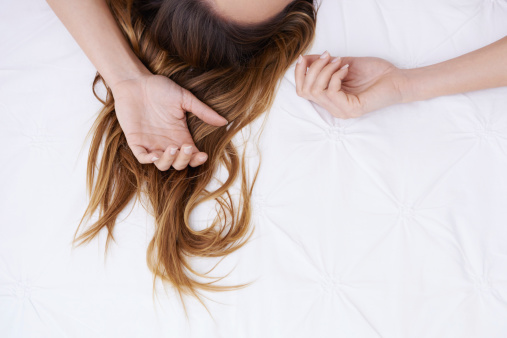deitado: (8, 0, 501, 299)
